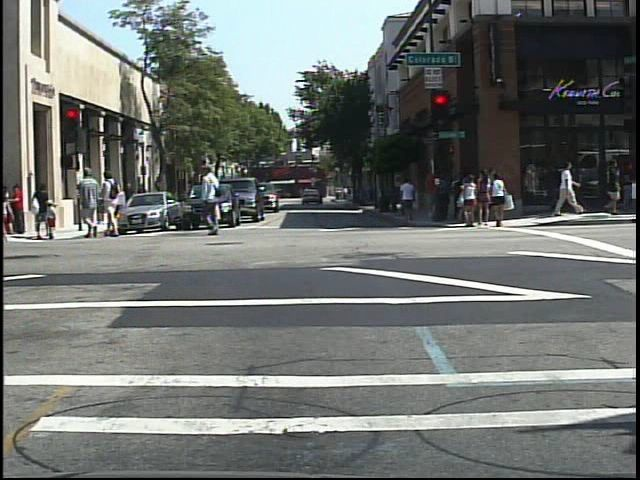person: (198, 163, 230, 238), (74, 164, 102, 243), (101, 167, 125, 238)
